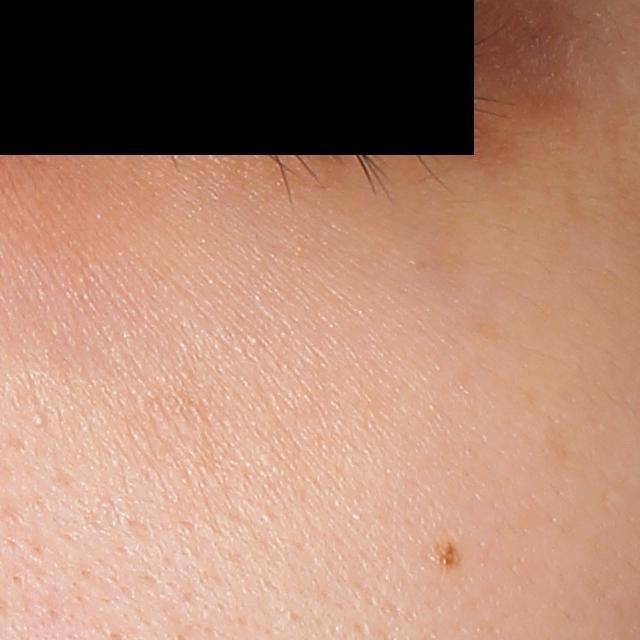comedo: (30, 411, 47, 430)
nevus: (429, 532, 465, 572)
